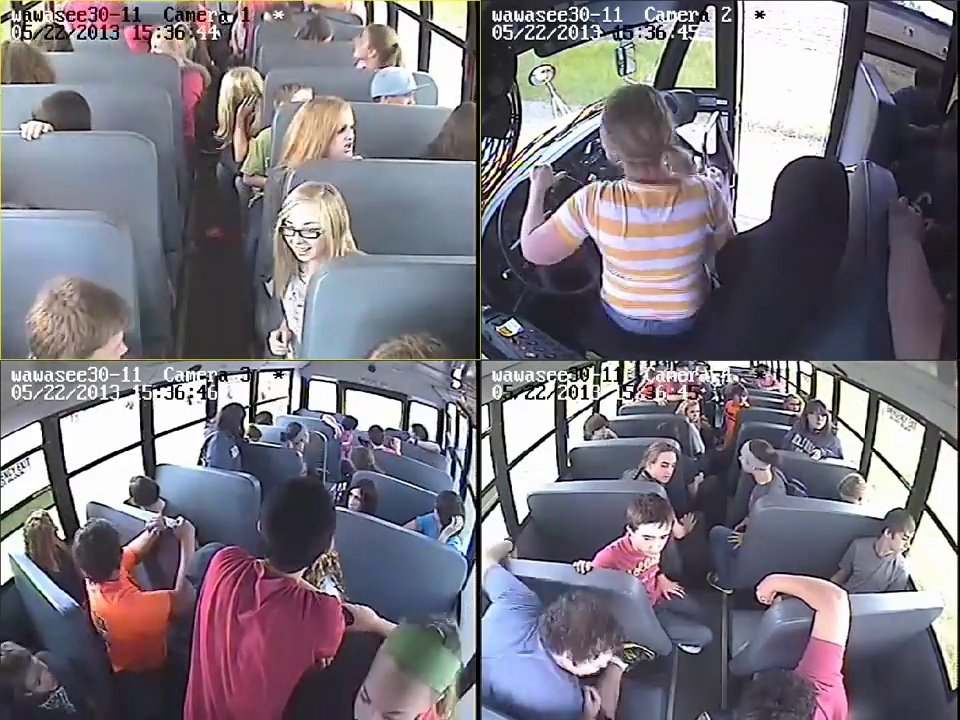face: (342, 683, 426, 713), (318, 105, 360, 155), (282, 209, 317, 260), (19, 659, 58, 699), (632, 525, 668, 560), (345, 485, 373, 512), (655, 452, 676, 482), (894, 527, 914, 556), (804, 406, 829, 427), (787, 395, 804, 418), (589, 422, 606, 438), (685, 405, 700, 423)
